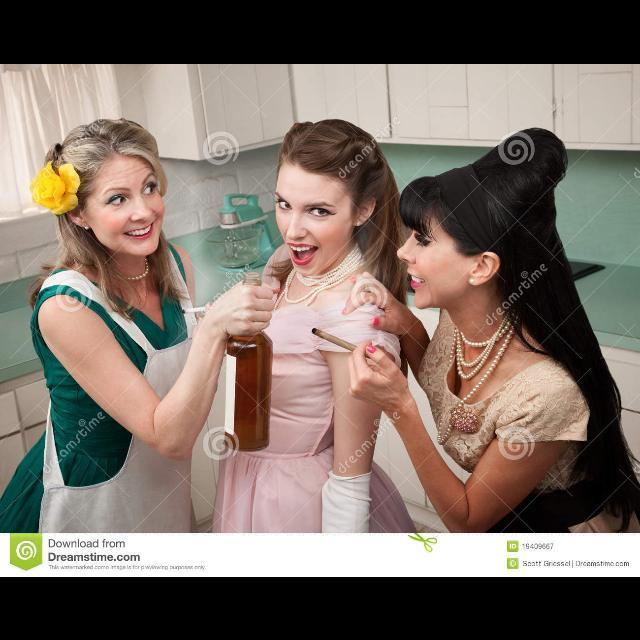rokok: (308, 320, 358, 356), (180, 302, 208, 314)
